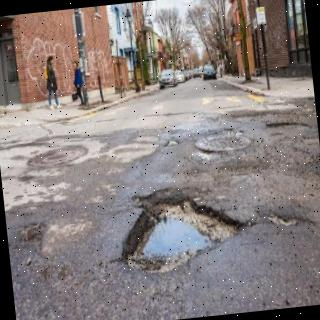pothole: (124, 186, 243, 274)
